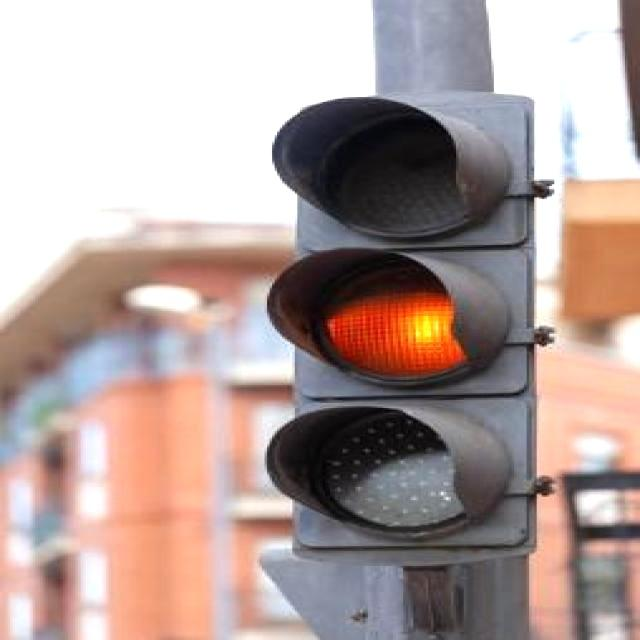Yellow: (284, 101, 530, 564)
